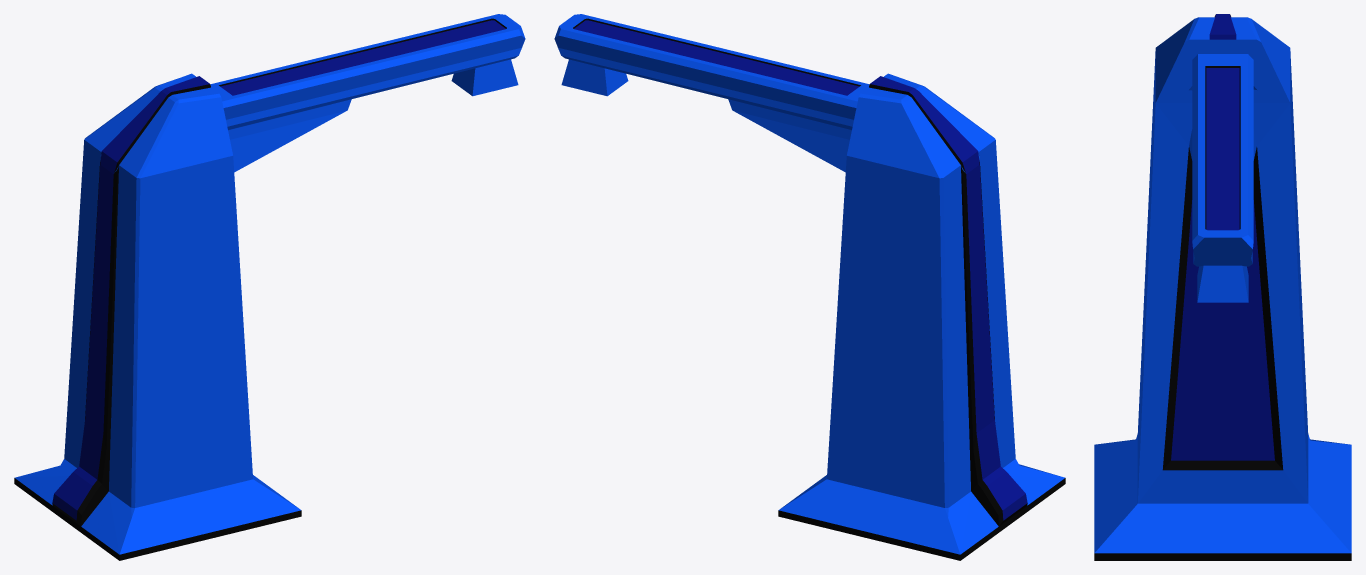
Rendered from Dropper_BasicBlue 1.fbx.
3 views of the same model, side by side, from view 1: azimuth 30°, elevation 25°; view 2: azimuth 150°, elevation 25°; view 3: azimuth 270°, elevation 25° (orthographic). The views are drawn at different scales.
Visible parts, largest first — view 1: Dropper; view 2: Dropper; view 3: Dropper.
Part boxes in pixels (x1,y1,x2,y2): Dropper: (14,14,525,560); Dropper: (554,14,1065,560); Dropper: (1094,14,1351,560).
Bounding box in the file's own units: 1232 × 1081 × 500.
